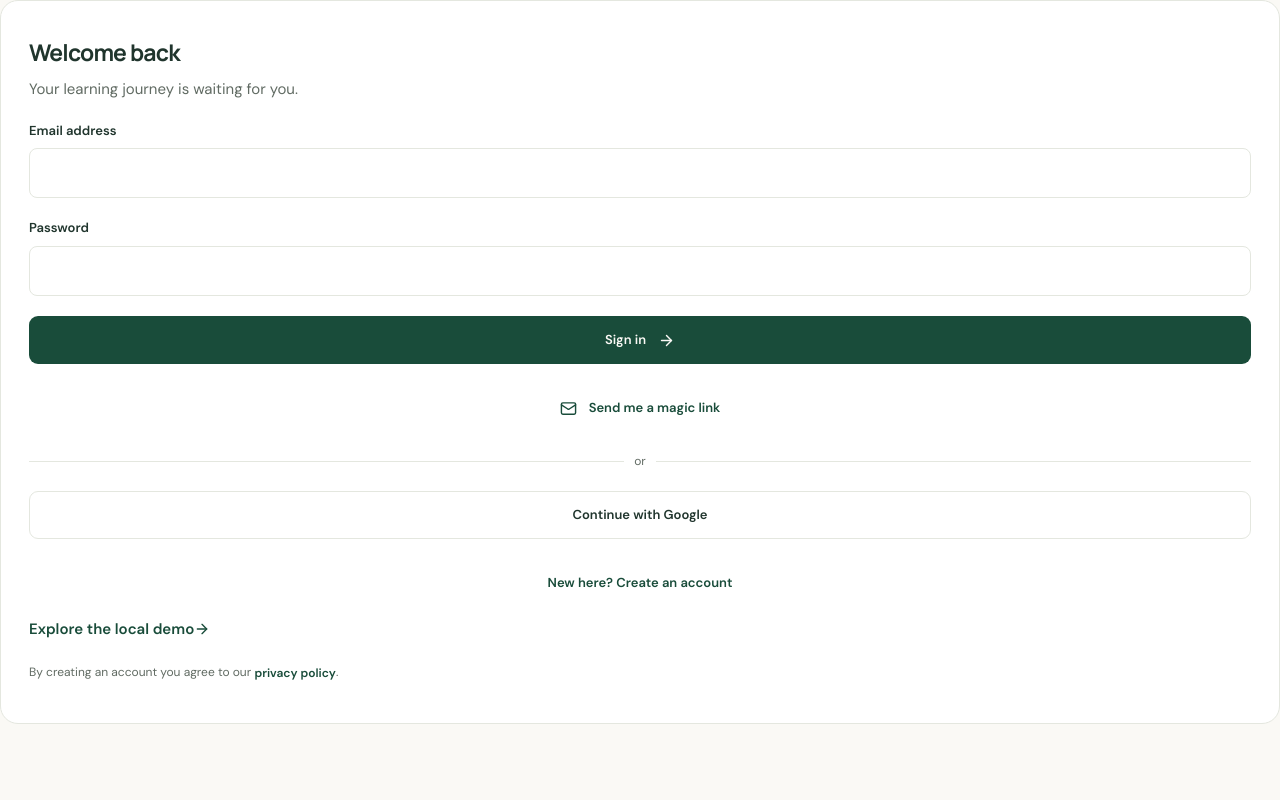
Test: signs in with validated credentials
The image size is (1280, 800).
In the field labelled "Email address": [640, 173] box x1=29 y1=148 x2=1251 y2=198, type "learner@example.com"
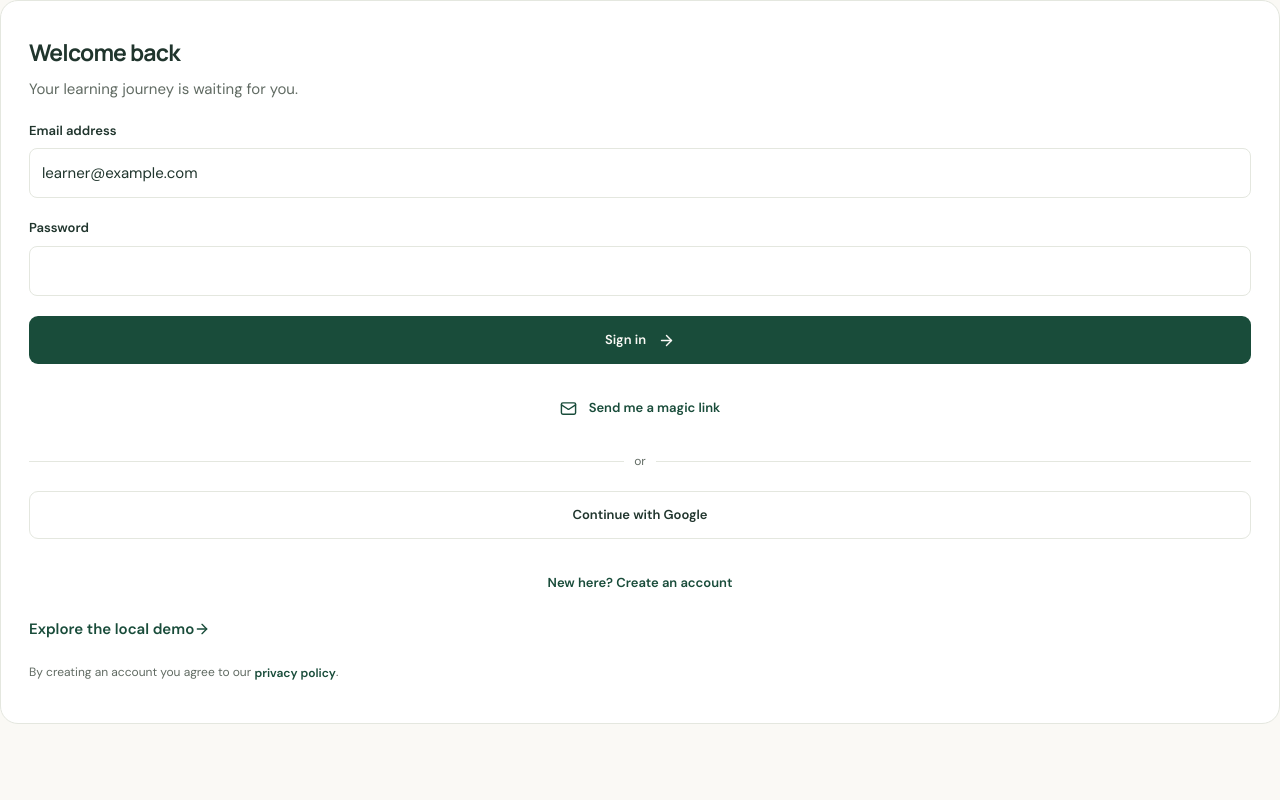
In the password field labelled "Password": [640, 271] box x1=29 y1=246 x2=1251 y2=296, type "safe-password"
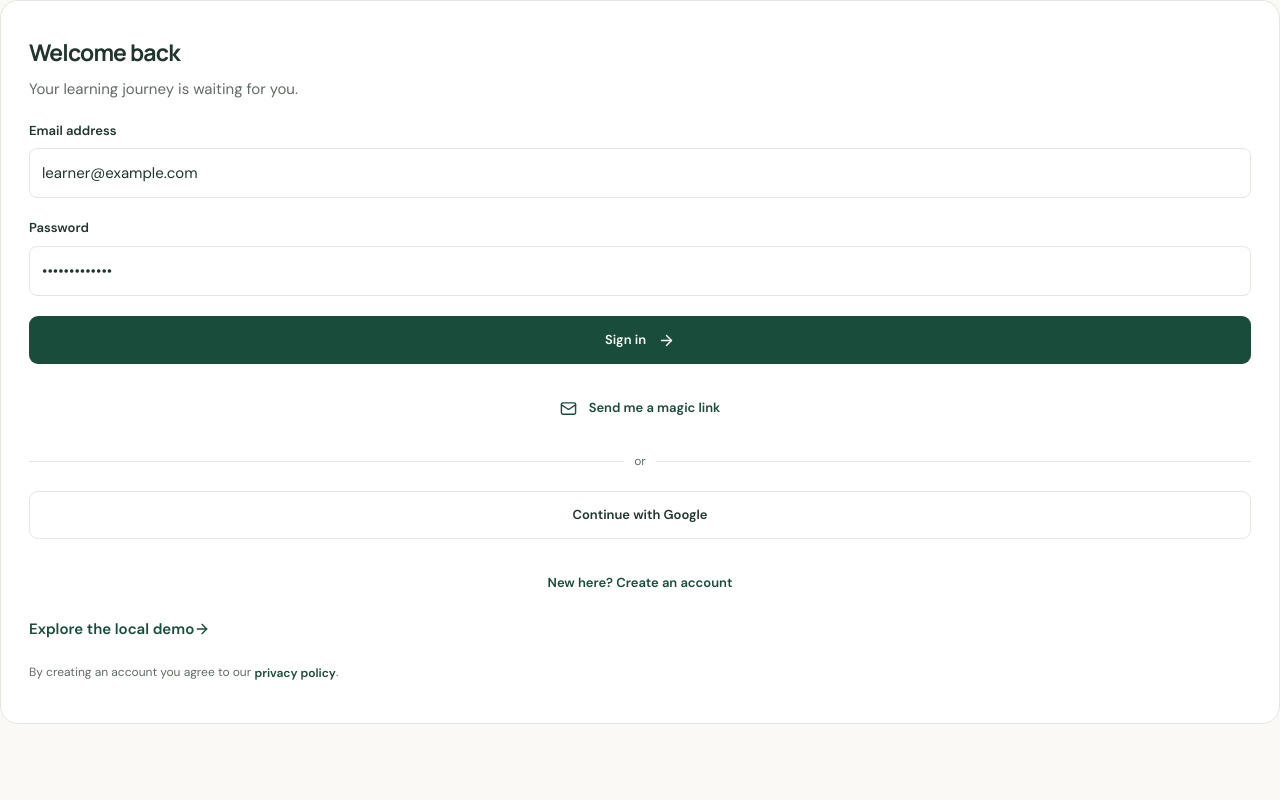
Click the button "Sign in": [640, 340] box x1=29 y1=316 x2=1251 y2=364
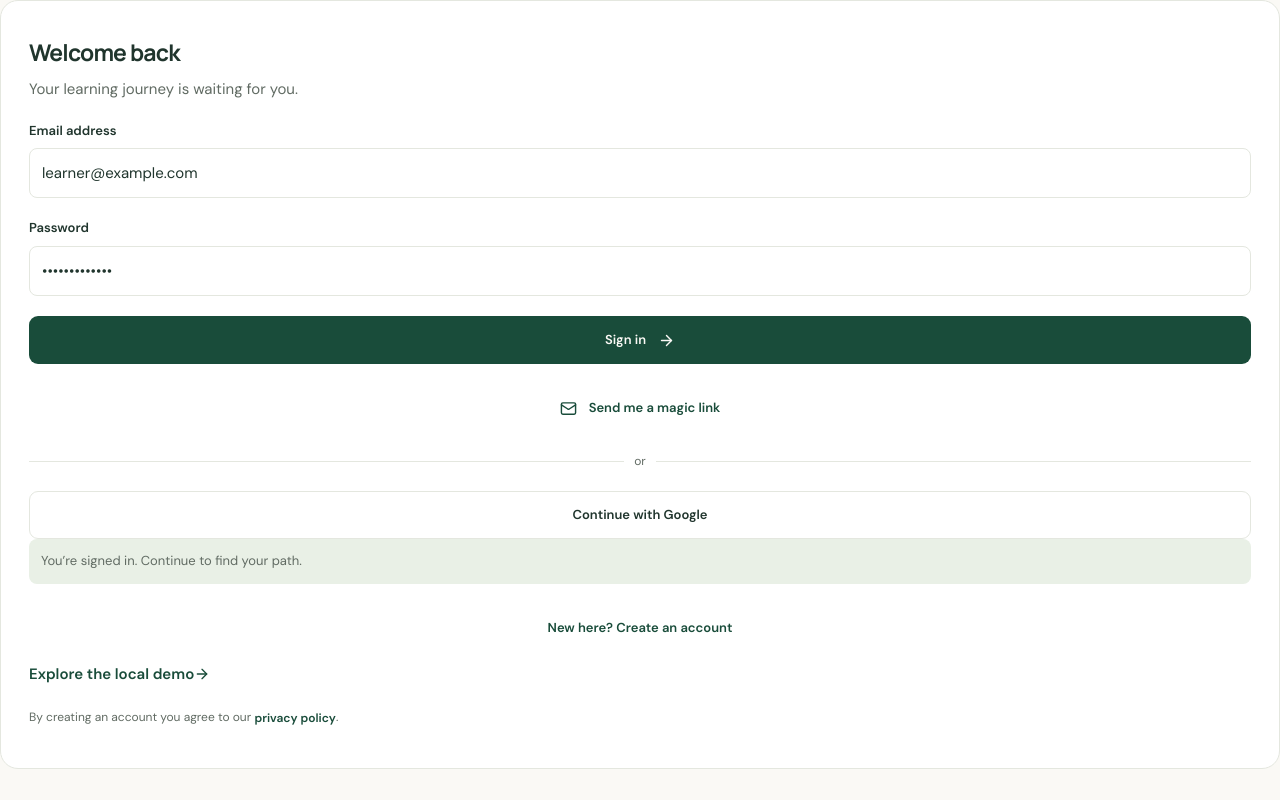
Expected: the message shows "You’re signed in", x1=41 y1=552 x2=302 y2=569
